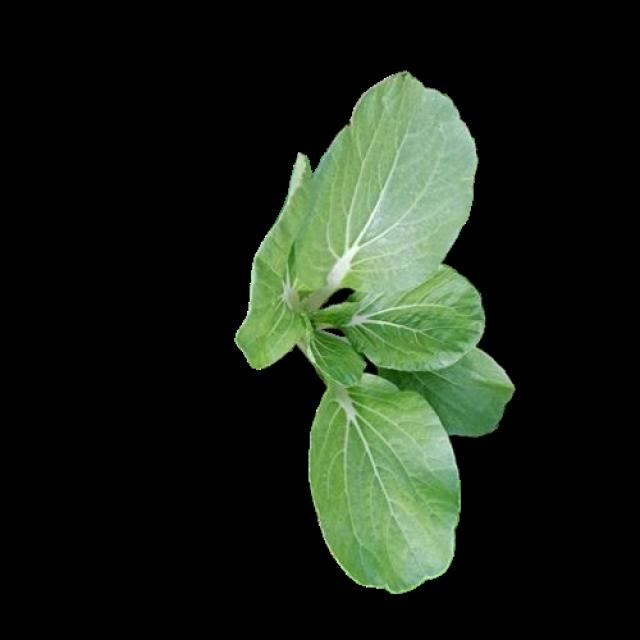healthy: (240, 91, 514, 607)
not-mature: (238, 73, 512, 589)
